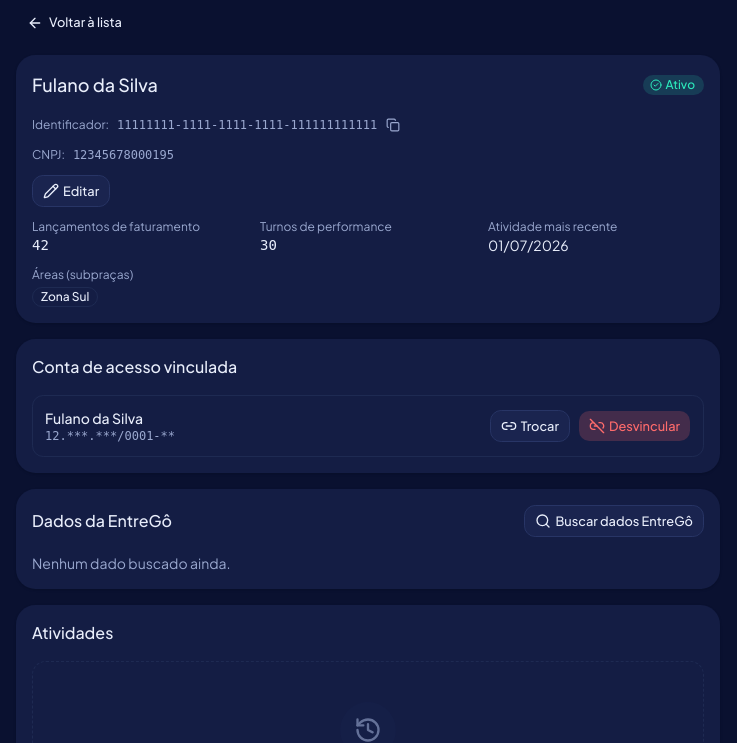
MotoristaDetalhePage › Dados da EntreGô (FASE 7, tasks 7.1/7.2) › task 7.2.2/7.2.4: 409 SEM_IDENTIFICADOR_ENTREGO mostra mensagem de erro clara
Click the button "Buscar dados EntreGô": click(614, 521) 524,505 -> 704,537
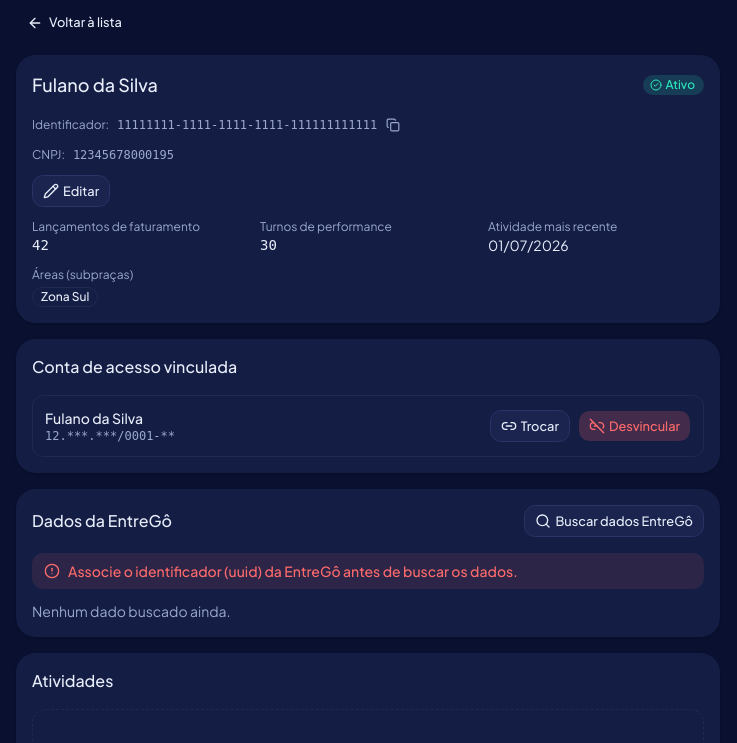
Check: the text "Associe o identificador (uuid) da EntreGô antes de buscar os dados." is shown, box 32,553 -> 704,589
